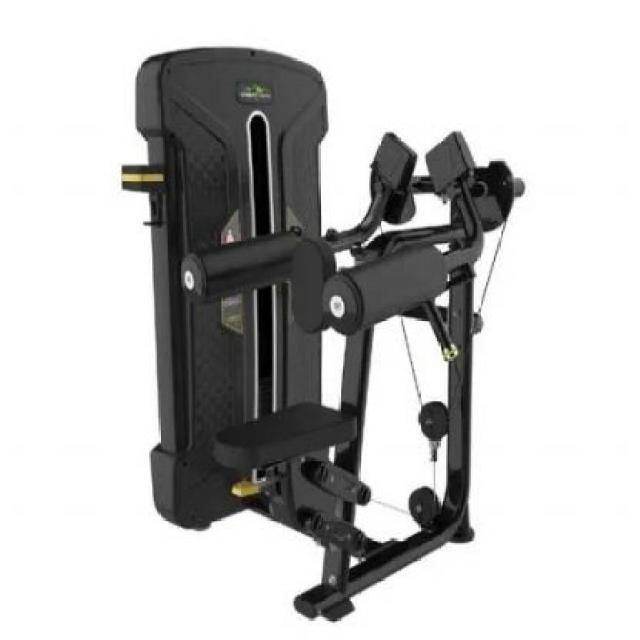lateral raises machine: (119, 45, 526, 623)
